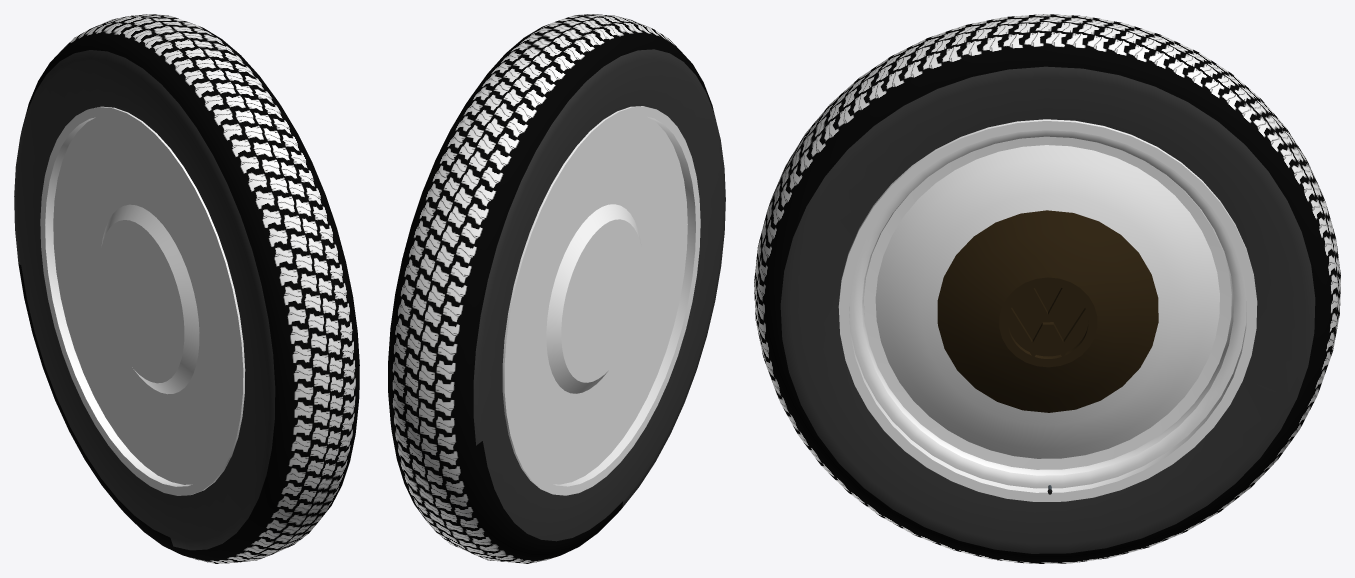
File: cochellantadelanteder.obj
3 views of the same model, side by side, from view 1: azimuth 30°, elevation 25°; view 2: azimuth 150°, elevation 25°; view 3: azimuth 270°, elevation 25° (orthographic). The views are drawn at different scales.
Parts seen in each view (by area): view 1: VWBeetle.003_white, VWBeetle.003_Picture, VWBeetle.003_Grey; view 2: VWBeetle.003_white, VWBeetle.003_Picture, VWBeetle.003_Grey; view 3: VWBeetle.003_white, VWBeetle.003_Grey, VWBeetle.003_Picture, VWBeetle.003_crome.
Boxes of the visible parts, x1,y1,x2,y2 form: VWBeetle.003_white: [40, 106, 245, 495]; VWBeetle.003_Picture: [18, 14, 359, 563]; VWBeetle.003_Grey: [14, 50, 275, 550]; VWBeetle.003_white: [502, 106, 700, 495]; VWBeetle.003_Picture: [388, 14, 714, 563]; VWBeetle.003_Grey: [473, 49, 725, 541]; VWBeetle.003_white: [838, 119, 1257, 501]; VWBeetle.003_Grey: [780, 66, 1315, 553]; VWBeetle.003_Picture: [754, 14, 1340, 563]; VWBeetle.003_crome: [937, 210, 1158, 412].
Size of the model in its own units: 0.9047 by 3.83 by 3.83.
